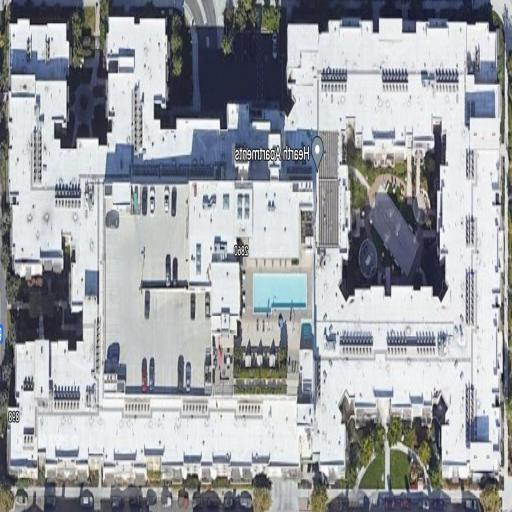Flat Roof: (6, 16, 507, 492)
